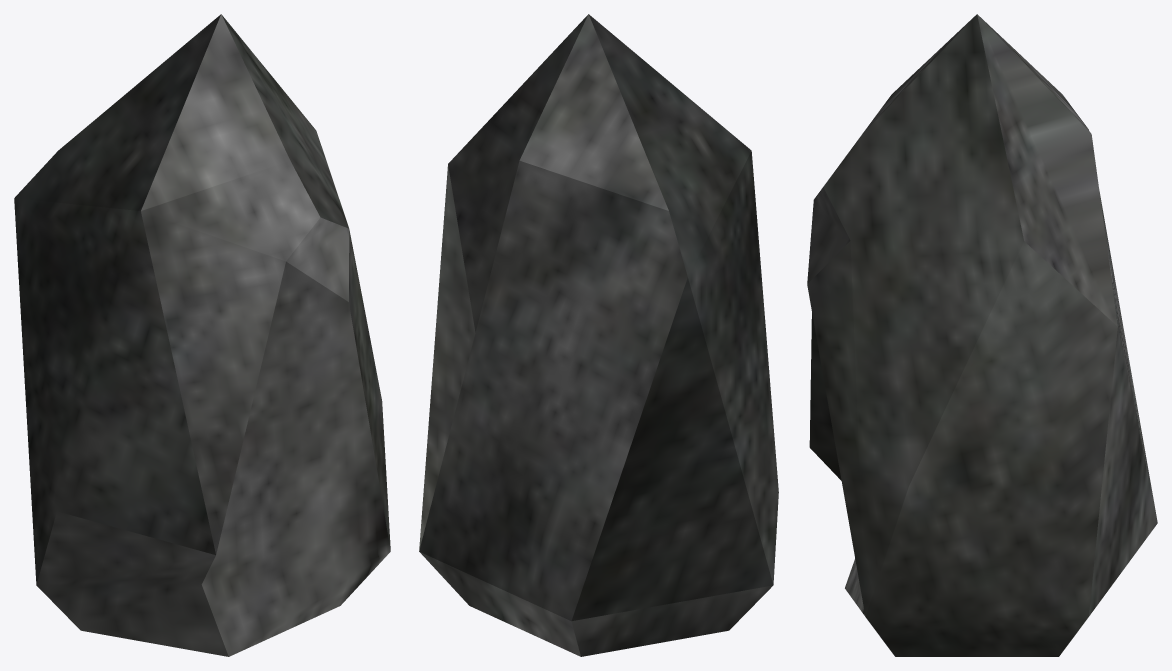
Rendered from Rock3.fbx.
The picture shows the model from 3 angles, left to right: view 1: azimuth 30°, elevation 25°; view 2: azimuth 150°, elevation 25°; view 3: azimuth 270°, elevation 25°; orthographic projection. The views are drawn at different scales.
Visible parts, largest first — view 1: Rock4; view 2: Rock4; view 3: Rock4.
Part boxes in pixels (x1,y1,x2,y2): Rock4: (14,14,390,656); Rock4: (419,14,778,656); Rock4: (807,14,1157,656).
Bounding box in the file's own units: 86.13 × 153 × 80.78.
